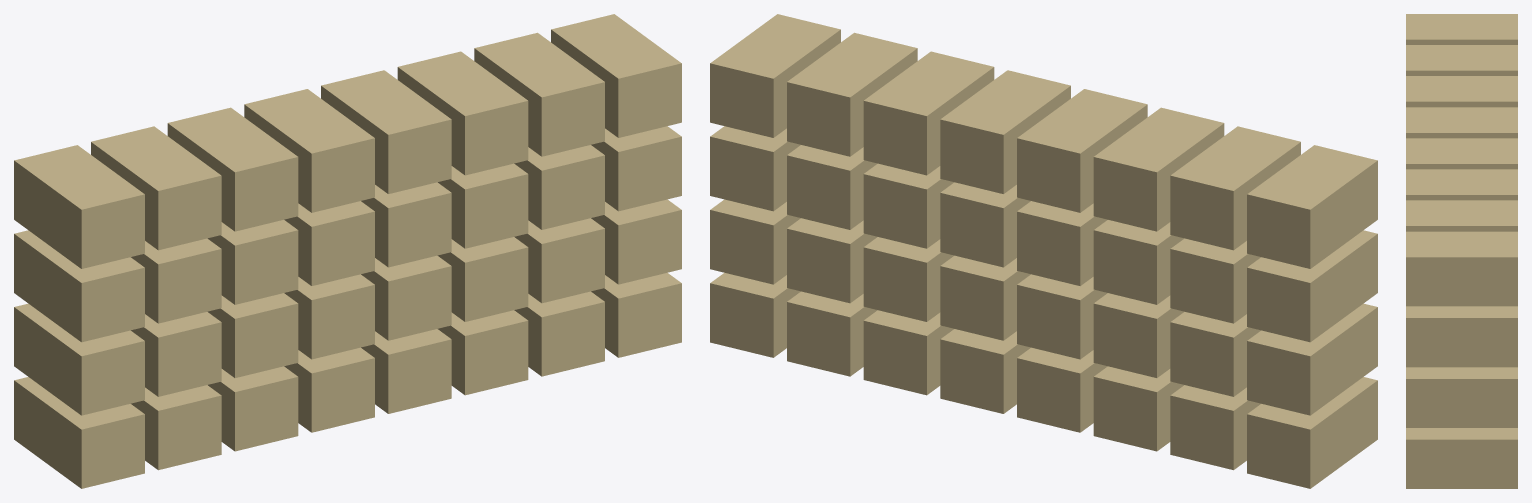
The model's file is brick-stack.glb.
3 renders of one model, left to right at view 1: azimuth 30°, elevation 25°; view 2: azimuth 150°, elevation 25°; view 3: azimuth 270°, elevation 25°, orthographic. The views are drawn at different scales.
Visible parts, largest first — view 1: brick-stack_cdbd92; view 2: brick-stack_cdbd92; view 3: brick-stack_cdbd92.
Boxes of the visible parts, x1,y1,x2,y2 form: brick-stack_cdbd92: [14, 14, 681, 488]; brick-stack_cdbd92: [710, 14, 1377, 488]; brick-stack_cdbd92: [1406, 14, 1517, 488].
Size of the model in its own units: 1.8 by 0.8 by 0.35.
